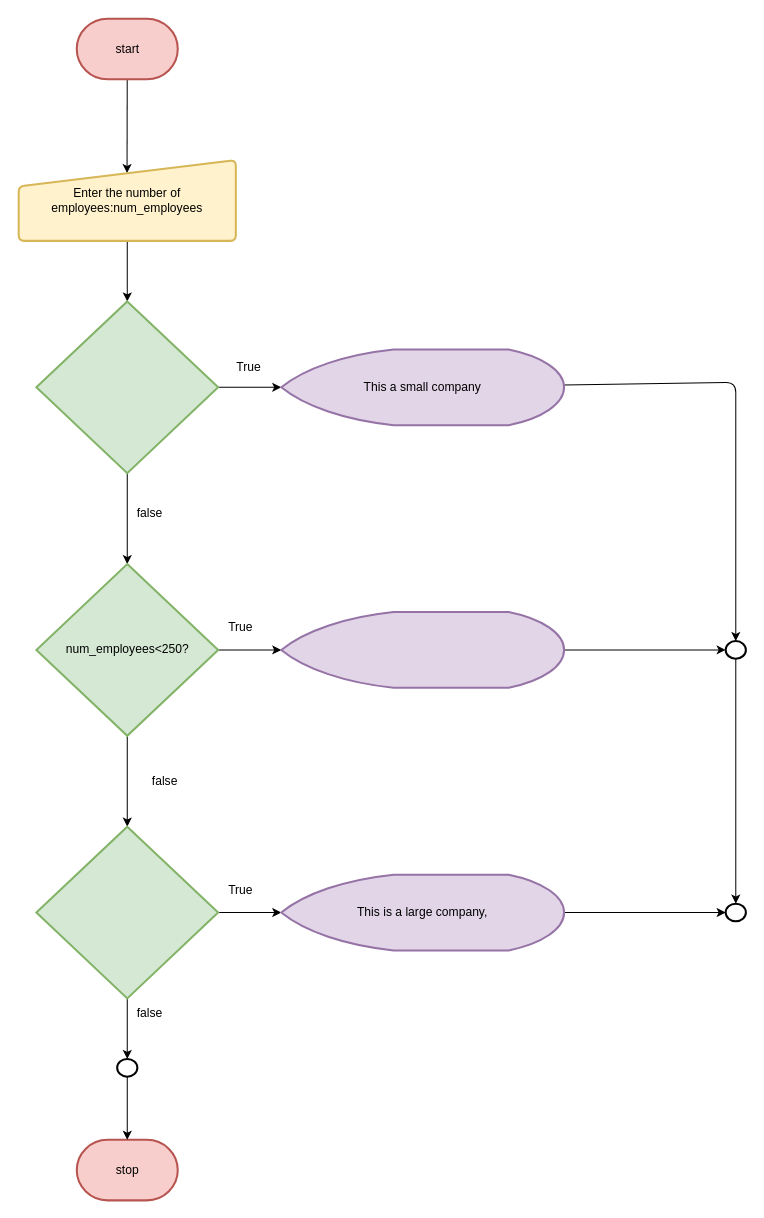
This 764x1218 diagram has some shape labels left out. The shapes that lost their labels are listed below. From the top down, each one's centre as x and y in pixels, then its label:
At point (127, 387): "num_employees<50?".
At point (422, 649): "This a medium-sized company.".
At point (127, 912): "num_employees<=250?".
